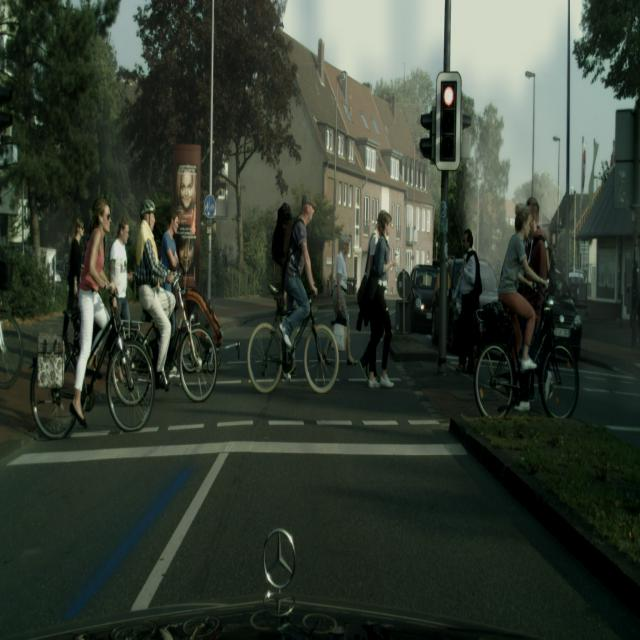car: (30, 292, 155, 438), (473, 277, 579, 421), (131, 270, 218, 401), (246, 288, 340, 395), (0, 250, 23, 389), (0, 311, 24, 389)
person: (69, 197, 117, 428), (133, 198, 180, 392), (498, 206, 548, 372), (278, 196, 318, 369), (359, 209, 394, 388), (453, 229, 482, 376), (332, 232, 358, 367), (62, 218, 83, 364), (109, 217, 131, 325), (525, 196, 550, 283), (162, 209, 182, 276)
truck: (432, 260, 501, 345), (409, 264, 440, 332)
